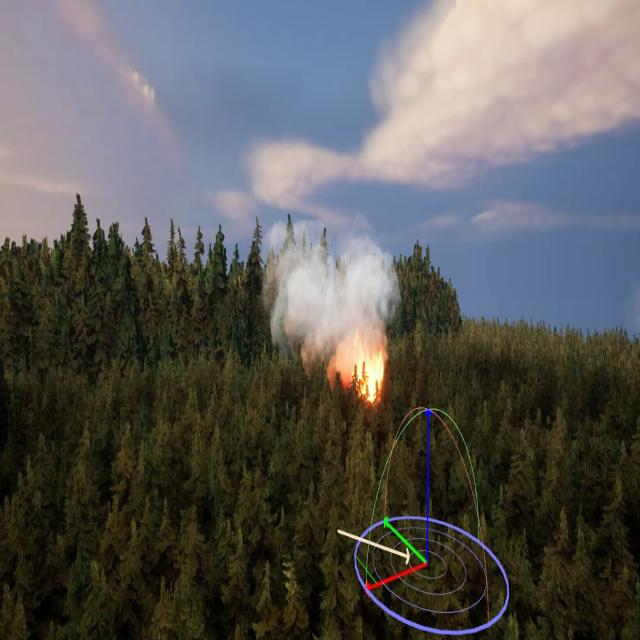fire: (341, 346, 384, 402)
smoke: (260, 225, 389, 375)
